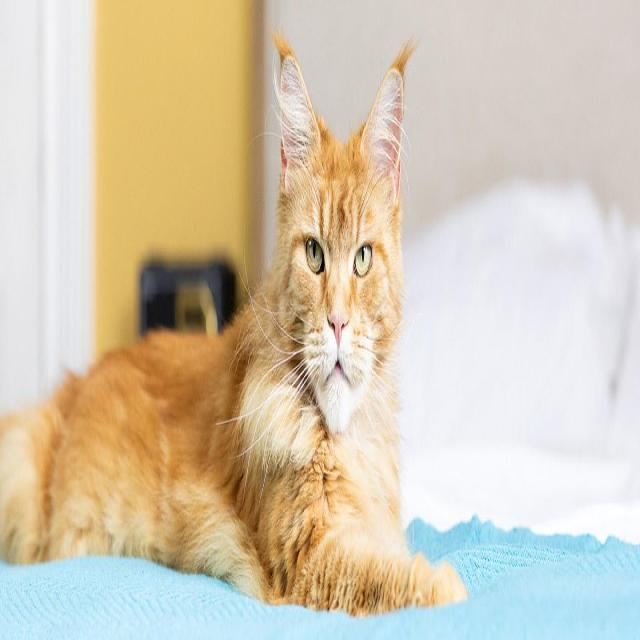cat: (1, 50, 502, 640)
